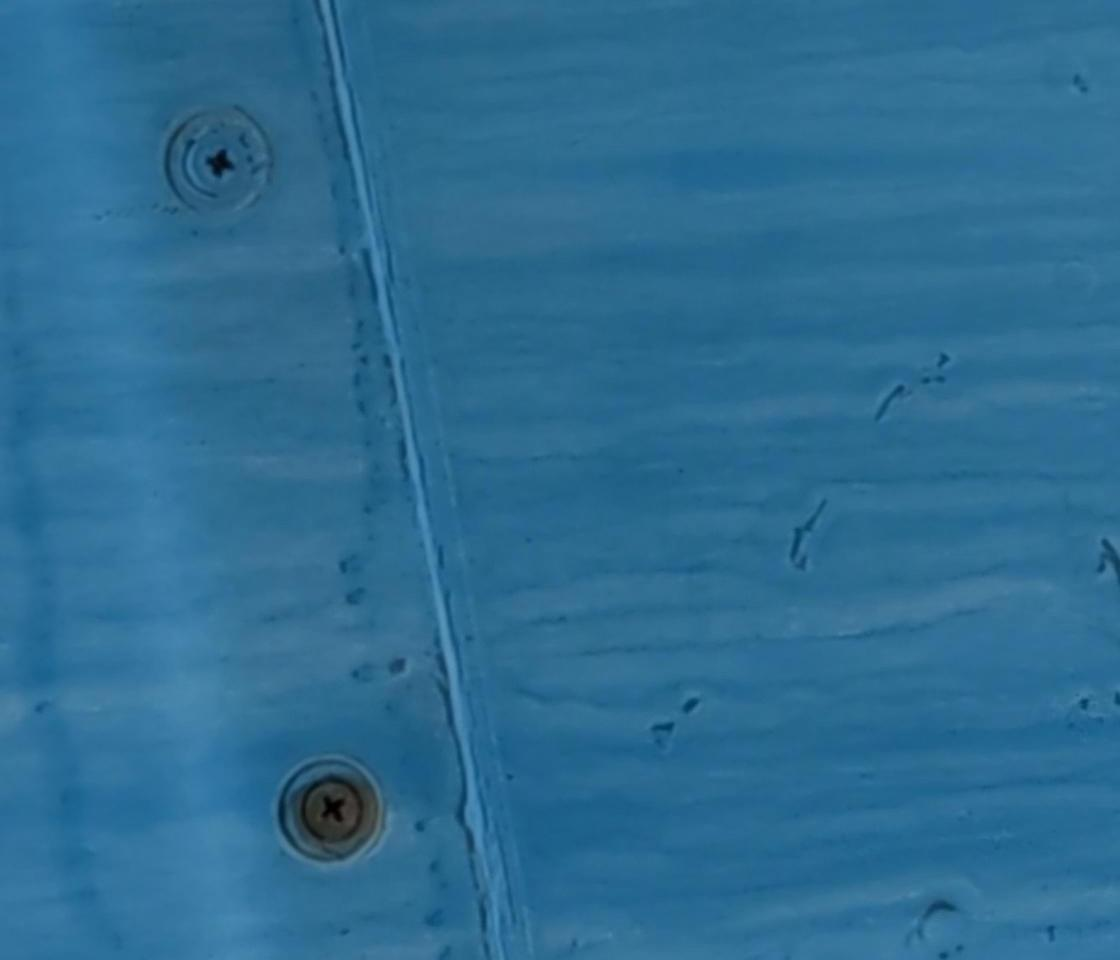scratch: (789, 498, 835, 578), (870, 380, 911, 423)
